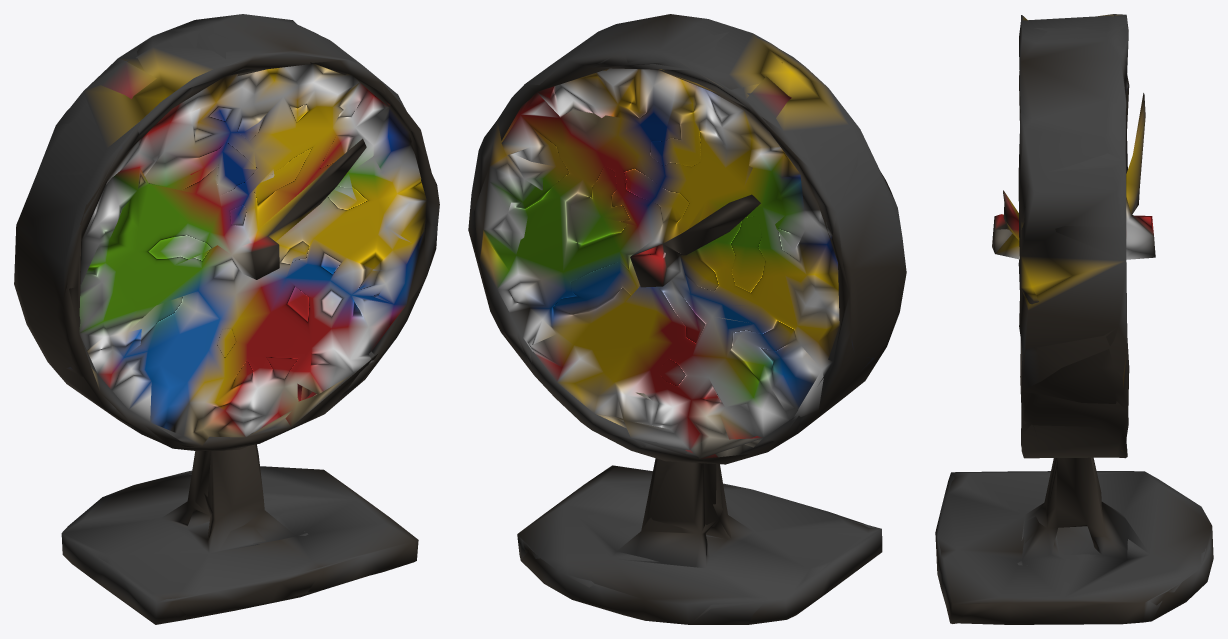
File: gen3d-prize-wheel-lod0.glb
The picture shows the model from 3 angles, left to right: view 1: azimuth 30°, elevation 25°; view 2: azimuth 150°, elevation 25°; view 3: azimuth 270°, elevation 25°; orthographic projection. The views are drawn at different scales.
Visible parts, largest first — view 1: part_0; view 2: part_0; view 3: part_0.
Boxes of the visible parts, x1,y1,x2,y2 form: part_0: (14,14,439,624); part_0: (468,14,906,624); part_0: (935,14,1213,624).
Bounding box in the file's own units: 0.7702 × 0.9999 × 0.4802.
